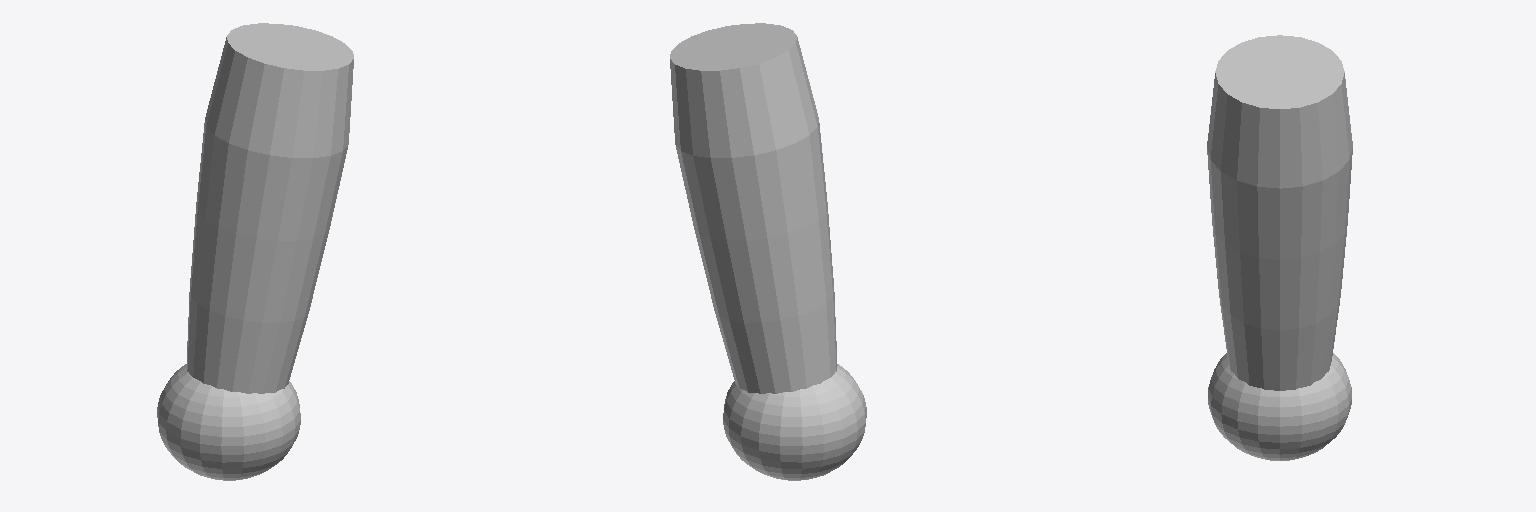
The model's file is footR.obj.
3 renders of one model, left to right at view 1: azimuth 30°, elevation 25°; view 2: azimuth 150°, elevation 25°; view 3: azimuth 270°, elevation 25°, orthographic.
Visible parts, largest first — view 1: footR:pCylinder11; view 2: footR:pCylinder11; view 3: footR:pCylinder11.
Boxes of the visible parts, x1=… form: footR:pCylinder11: x1=157, y1=23, x2=353, y2=480; footR:pCylinder11: x1=670, y1=23, x2=866, y2=480; footR:pCylinder11: x1=1207, y1=35, x2=1352, y2=460.
Bounding box in the file's own units: 2.86 × 6.42 × 2.02.